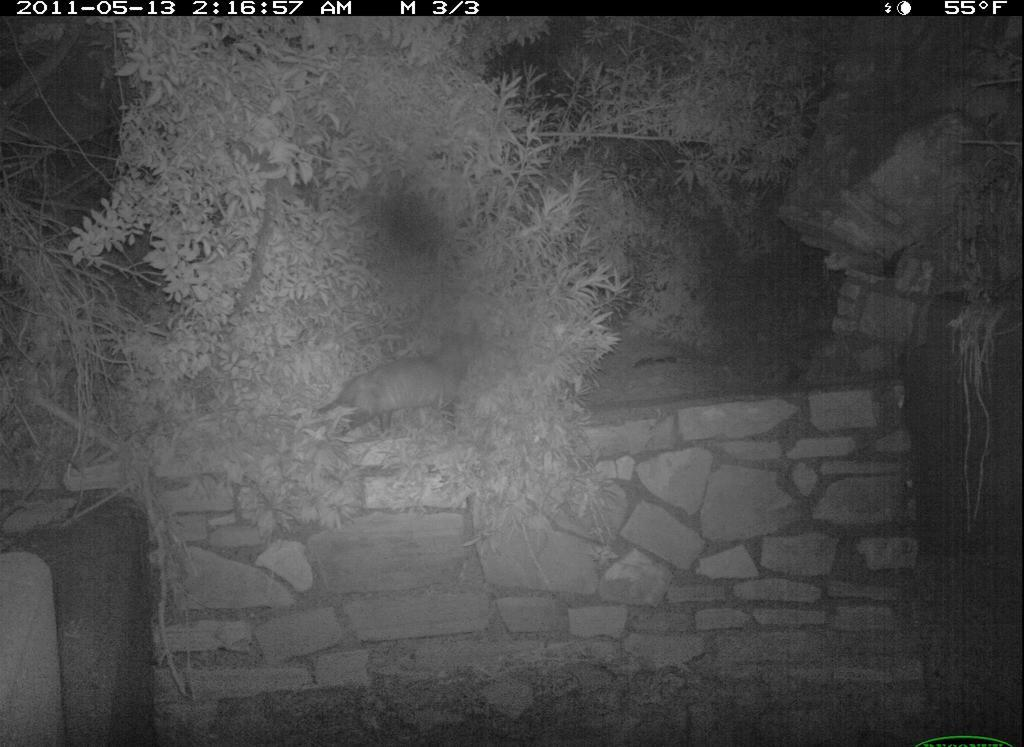opossum: (324, 331, 492, 443)
